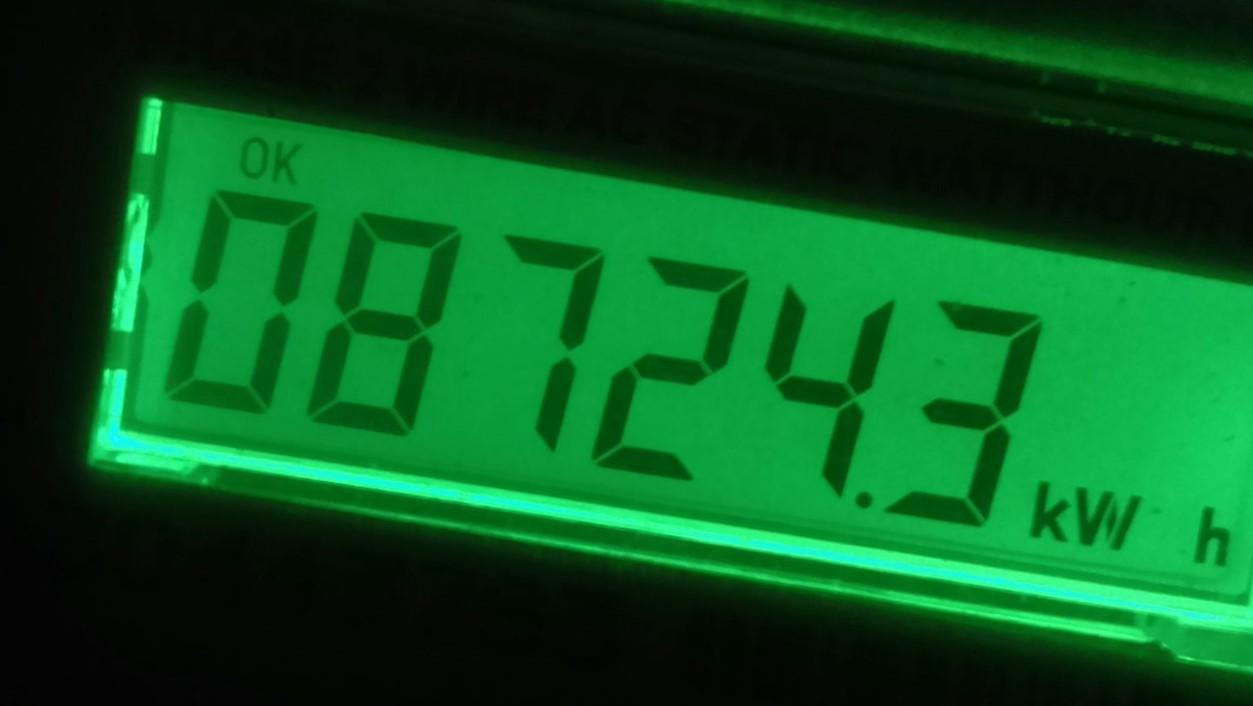.: (1023, 473, 1243, 579)
0: (831, 457, 904, 550)
1: (135, 183, 323, 408)
3: (580, 233, 771, 494)
4: (886, 283, 1069, 534)
5: (760, 265, 907, 488)
8: (444, 215, 631, 448)
9: (292, 199, 477, 414)
